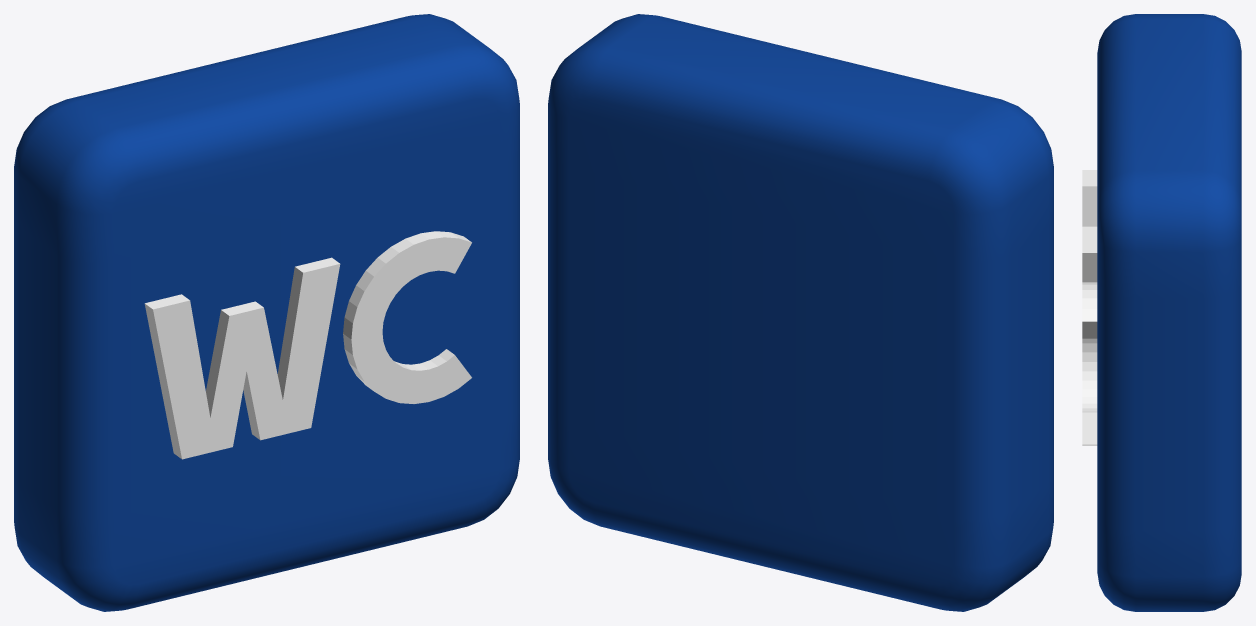
File: water_closet.gltf
3 views of the same model, side by side, from view 1: azimuth 30°, elevation 25°; view 2: azimuth 150°, elevation 25°; view 3: azimuth 270°, elevation 25° (orthographic). The views are drawn at different scales.
Visible parts, largest first — view 1: Cube.172; view 2: Cube.172; view 3: Cube.172.
Boxes of the visible parts, x1,y1,x2,y2 form: Cube.172: [14, 14, 519, 611]; Cube.172: [548, 14, 1053, 611]; Cube.172: [1082, 14, 1241, 611].
Size of the model in its own units: 2.2 by 2.2 by 0.73.
1 material, 1 textured.
